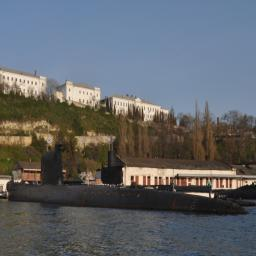submarine: (7, 145, 251, 216)
